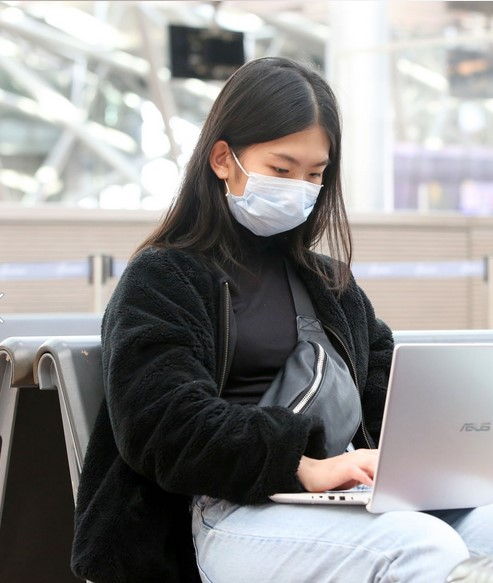face_with_mask: (207, 63, 339, 240)
